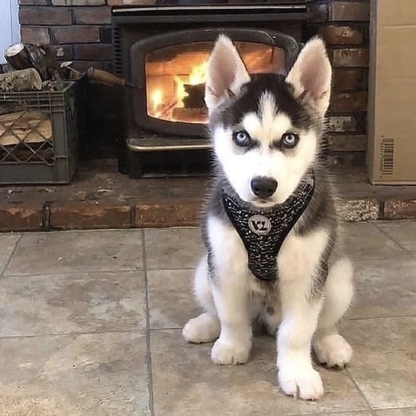husky: (176, 25, 360, 404)
